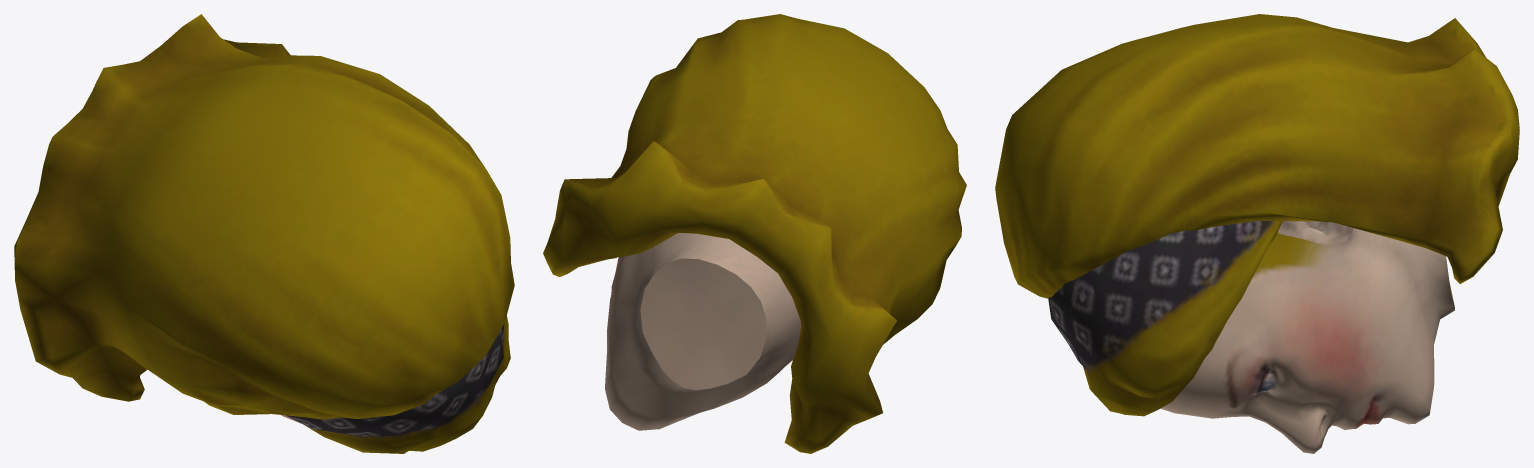
File: dest_nt_nuked_female_03_head_LOD0.obj
The picture shows the model from 3 angles, left to right: view 1: azimuth 30°, elevation 25°; view 2: azimuth 150°, elevation 25°; view 3: azimuth 270°, elevation 25°; orthographic projection. The views are drawn at different scales.
Parts seen in each view (by area): view 1: mtl_nt_2020_manne_fem01_hair2; view 2: mtl_nt_2020_manne_fem01_hair2, mtl_nt_2020_manne_fem01_head2; view 3: mtl_nt_2020_manne_fem01_hair2, mtl_nt_2020_manne_fem01_head2.
Boxes of the visible parts, x1,y1,x2,y2 form: mtl_nt_2020_manne_fem01_hair2: [14, 14, 514, 453]; mtl_nt_2020_manne_fem01_hair2: [543, 14, 966, 453]; mtl_nt_2020_manne_fem01_head2: [605, 233, 800, 430]; mtl_nt_2020_manne_fem01_hair2: [995, 14, 1519, 416]; mtl_nt_2020_manne_fem01_head2: [1161, 221, 1454, 453].
Size of the model in its own units: 27.87 by 26.17 by 32.91.
